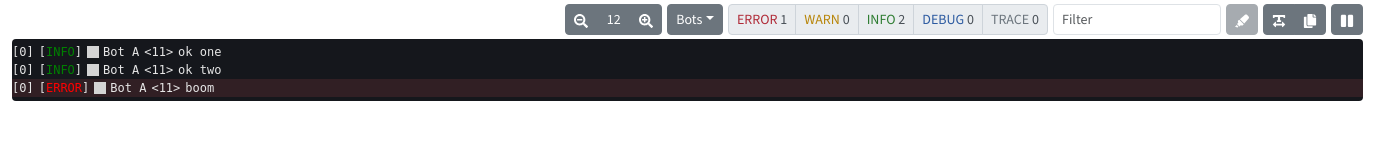
Test: Logs (per-bot filtering) › level chips show live counts and toggle their level on click
Expected: the button with aria-label "Toggle INFO logs" shows "2", [858, 4, 914, 35]
Click the button with aria-label "Toggle ERROR logs" at (762, 20), box [728, 4, 796, 35]
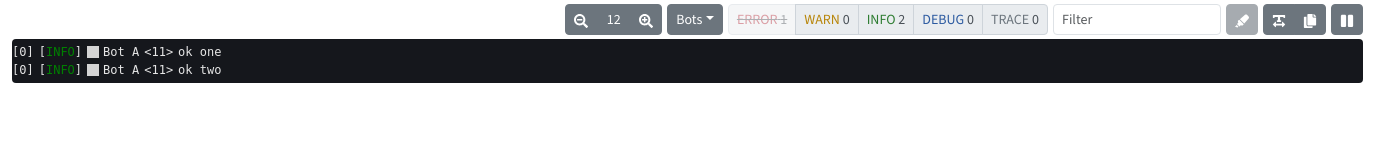
Expected: the text "ok one" is shown, [178, 45, 222, 59]
Result: the text "boom" is gone
...and back on.
Click the button with aria-label "Toggle ERROR logs" at (762, 20), box [728, 4, 796, 35]
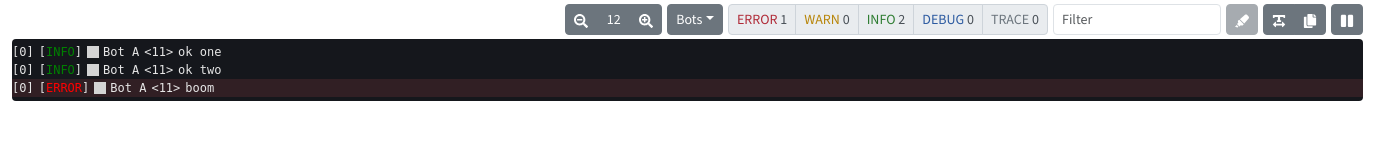
Result: the text "boom" is shown at [185, 81, 214, 95]
